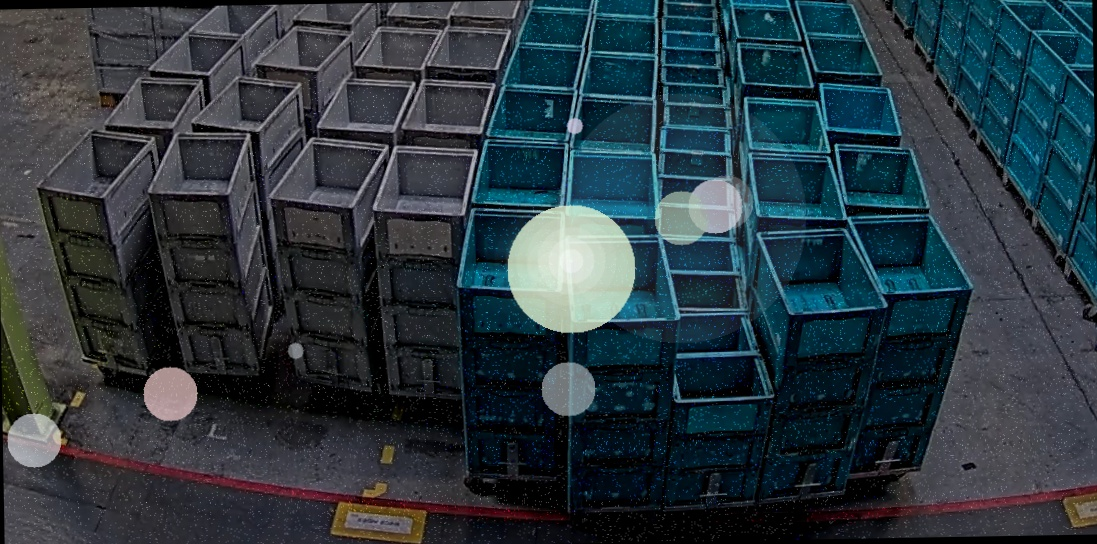4G: (34, 125, 174, 372), (266, 136, 396, 391), (146, 131, 277, 375), (370, 143, 484, 398)
B4: (745, 224, 891, 503), (845, 213, 979, 475), (560, 231, 685, 511), (455, 207, 572, 479)
B8: (657, 310, 778, 508)
